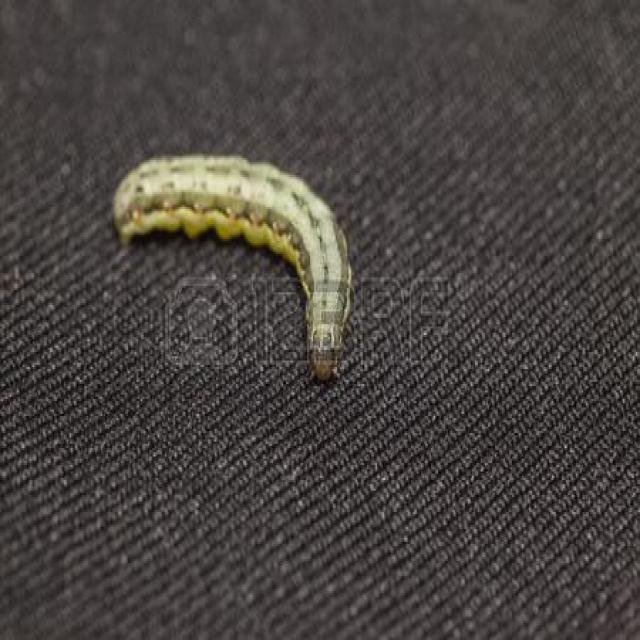BeetArmyWorm-Larva-: (104, 141, 359, 389)
